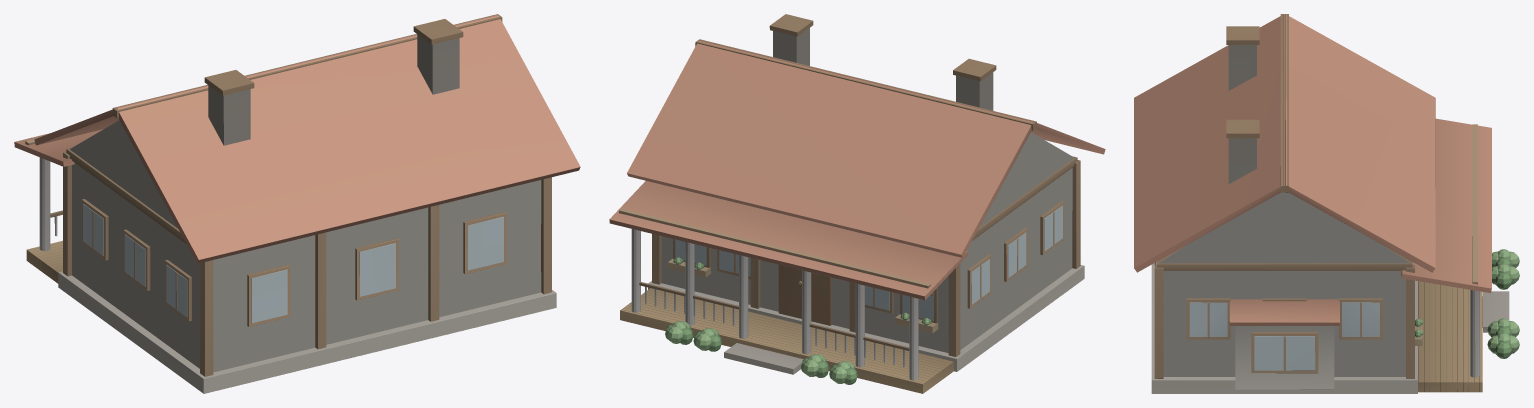
The model's file is home_manor__red_low.glb.
3 renders of one model, left to right at view 1: azimuth 30°, elevation 25°; view 2: azimuth 150°, elevation 25°; view 3: azimuth 270°, elevation 25°, orthographic. The views are drawn at different scales.
Size of the model in its own units: 11.05 by 6.87 by 10.14.
